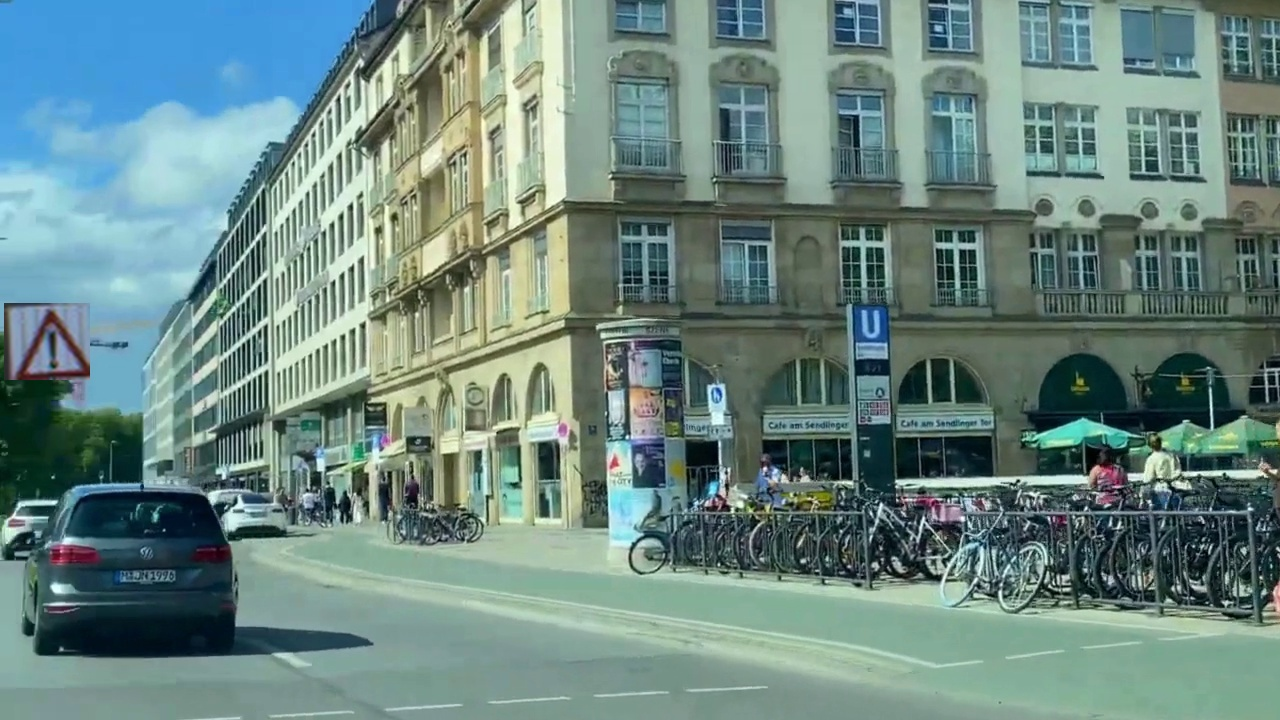Caution: (4, 303, 90, 380)
